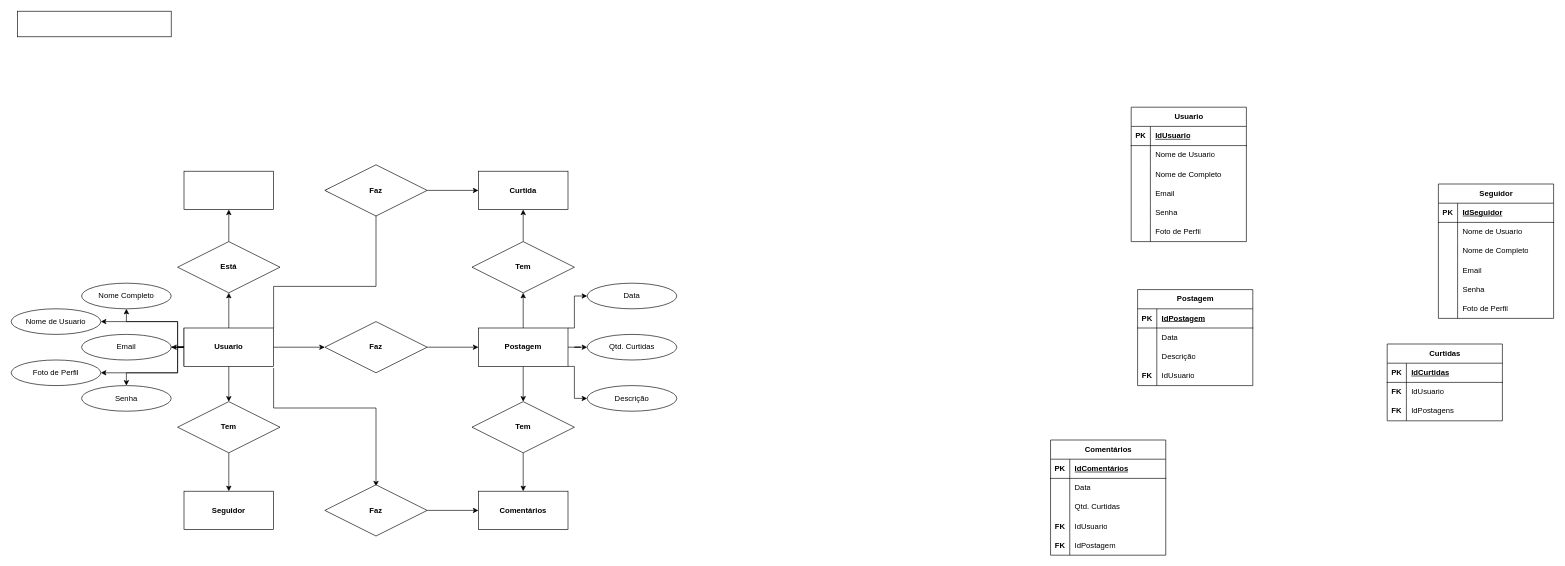
The diagram is 1565 pixels wide and 566 high, and some of its shapes have lost their labels. Each missing label, with the box of its shape:
Modelo Lógico- DevConnect: (17, 11, 171, 37)
Seguindo: (183, 171, 274, 210)
